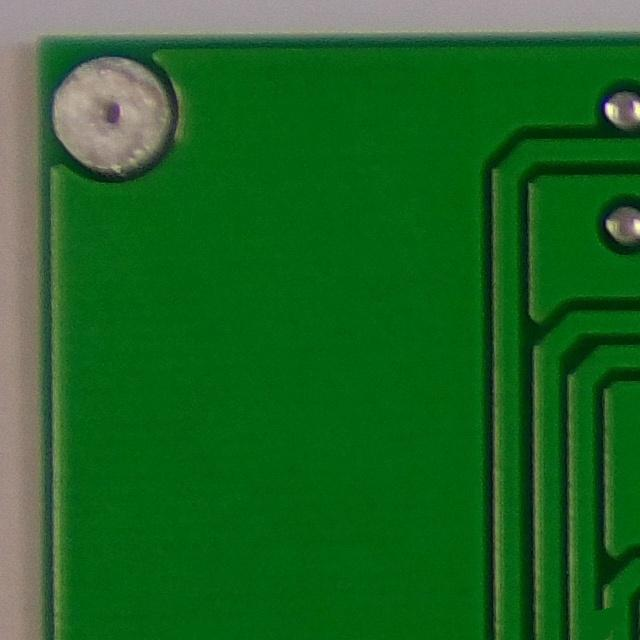short: (571, 593, 638, 640)
